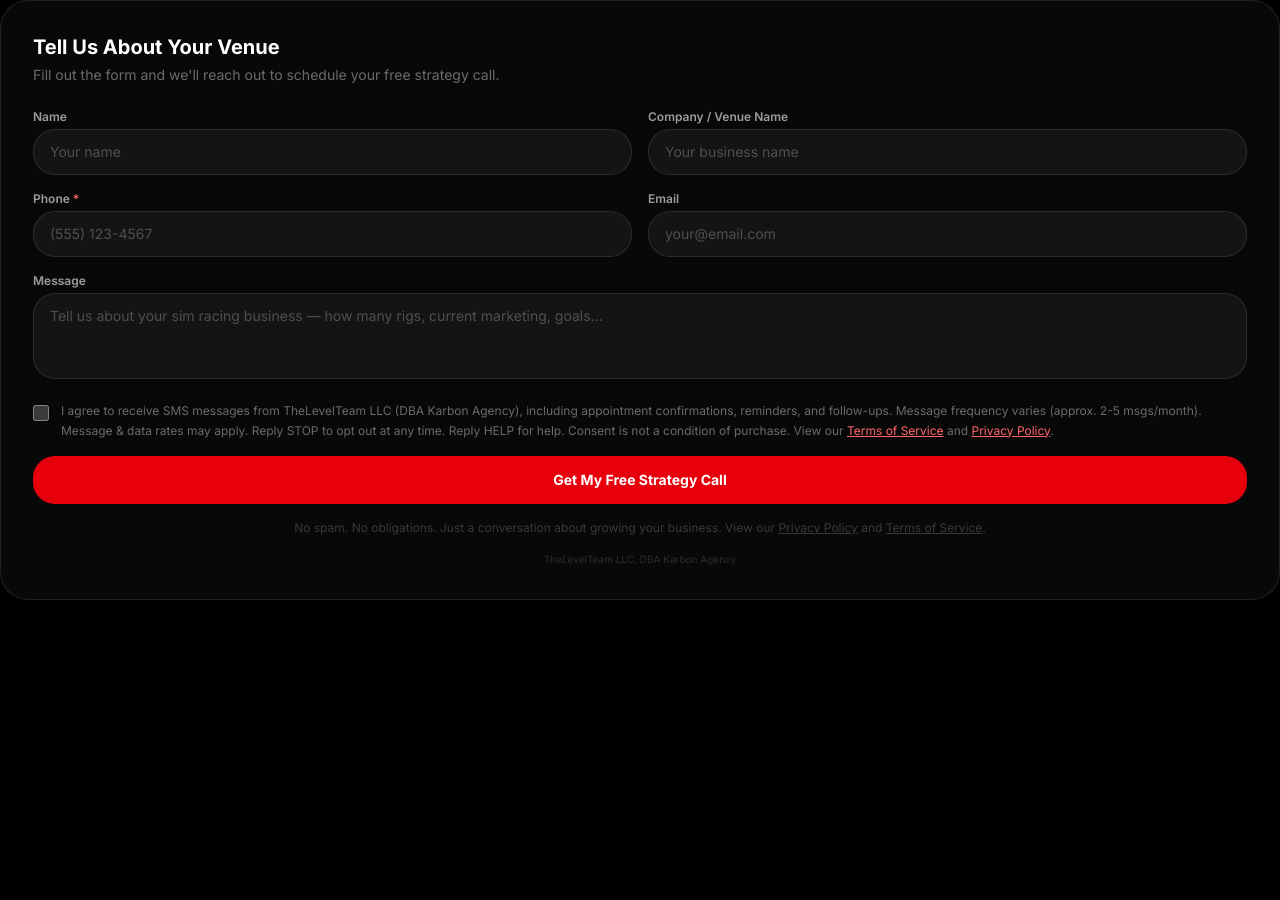
Test: ContactForm › API error › displays generic error when no message provided
Type "John" into the field with id "name" at coordinates (332, 152), box [33, 129, 632, 175]
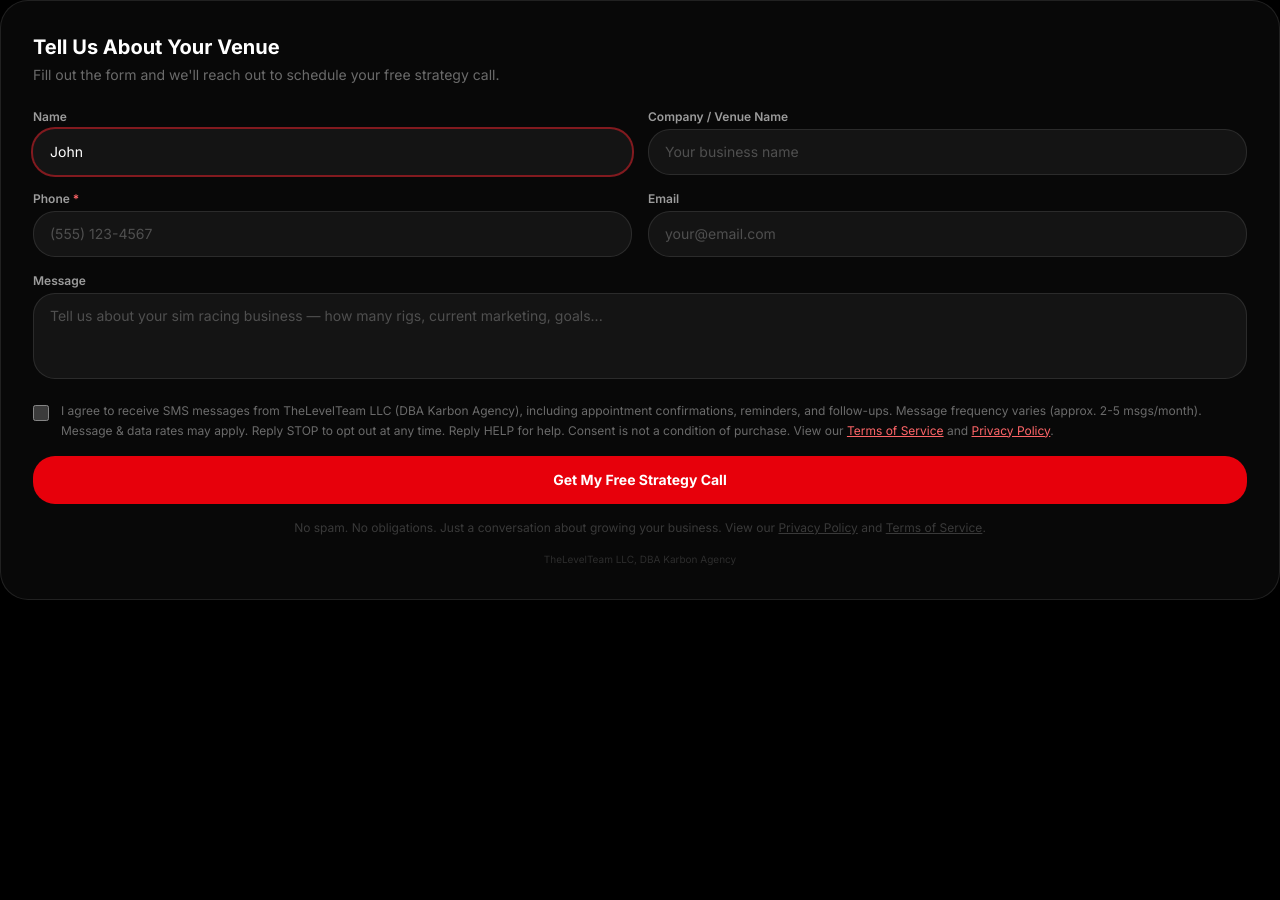
Type "123" into the field labelled "Phone *" at coordinates (332, 234), box [33, 211, 632, 257]
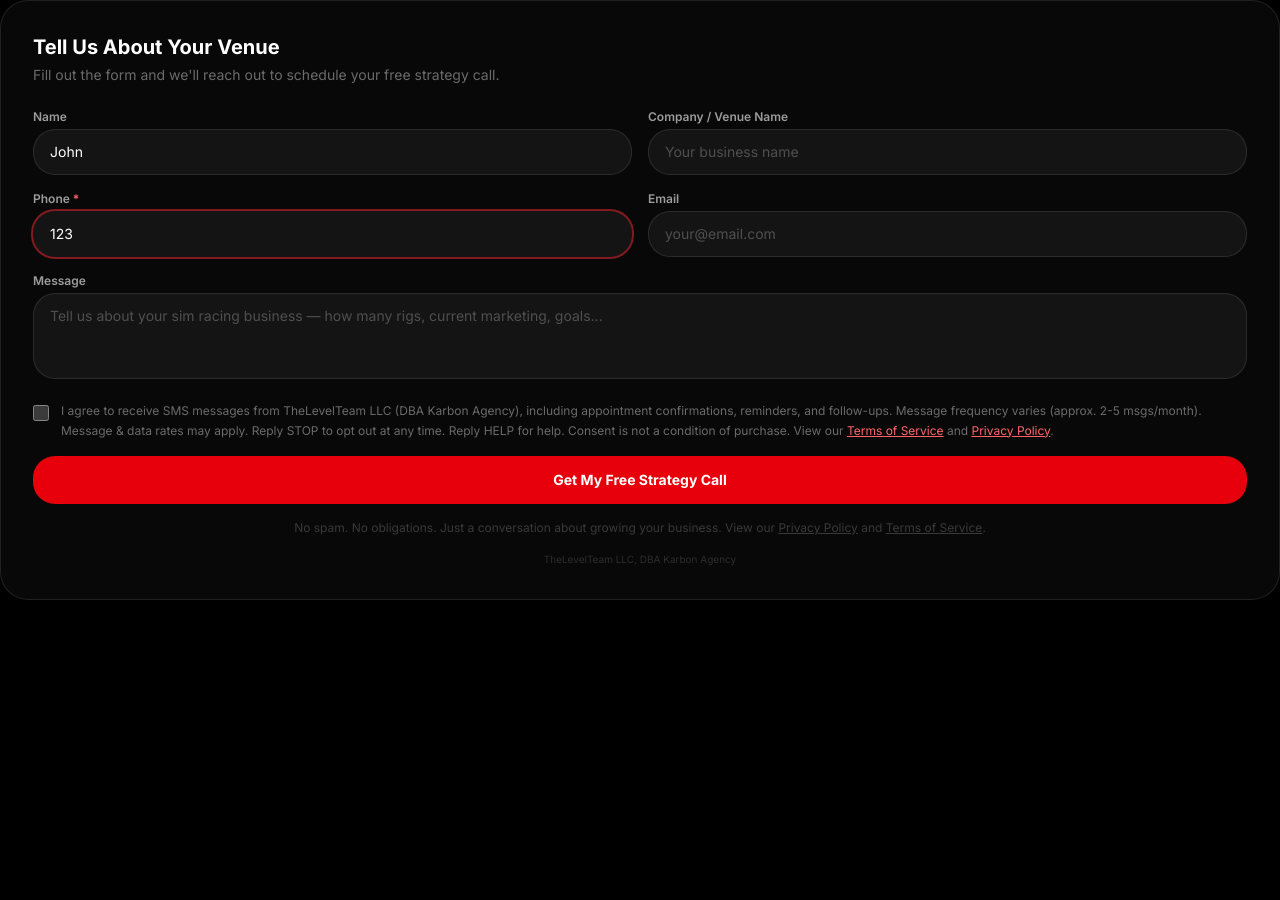
Type "j@t.com" into the field with id "email" at coordinates (948, 234), box [648, 211, 1247, 257]
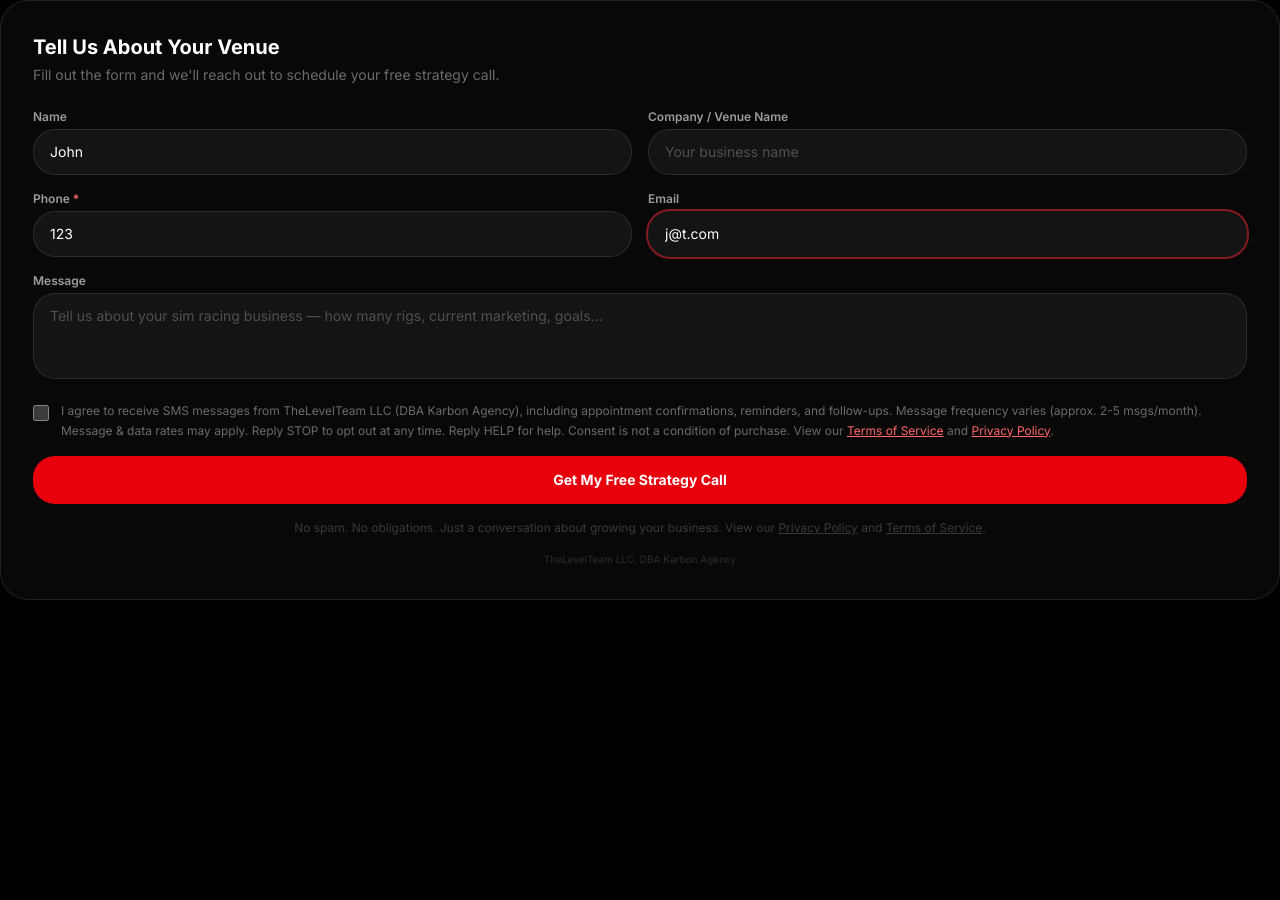
Type "Hi" into the text box with id "message" at coordinates (640, 336), box [33, 293, 1247, 379]
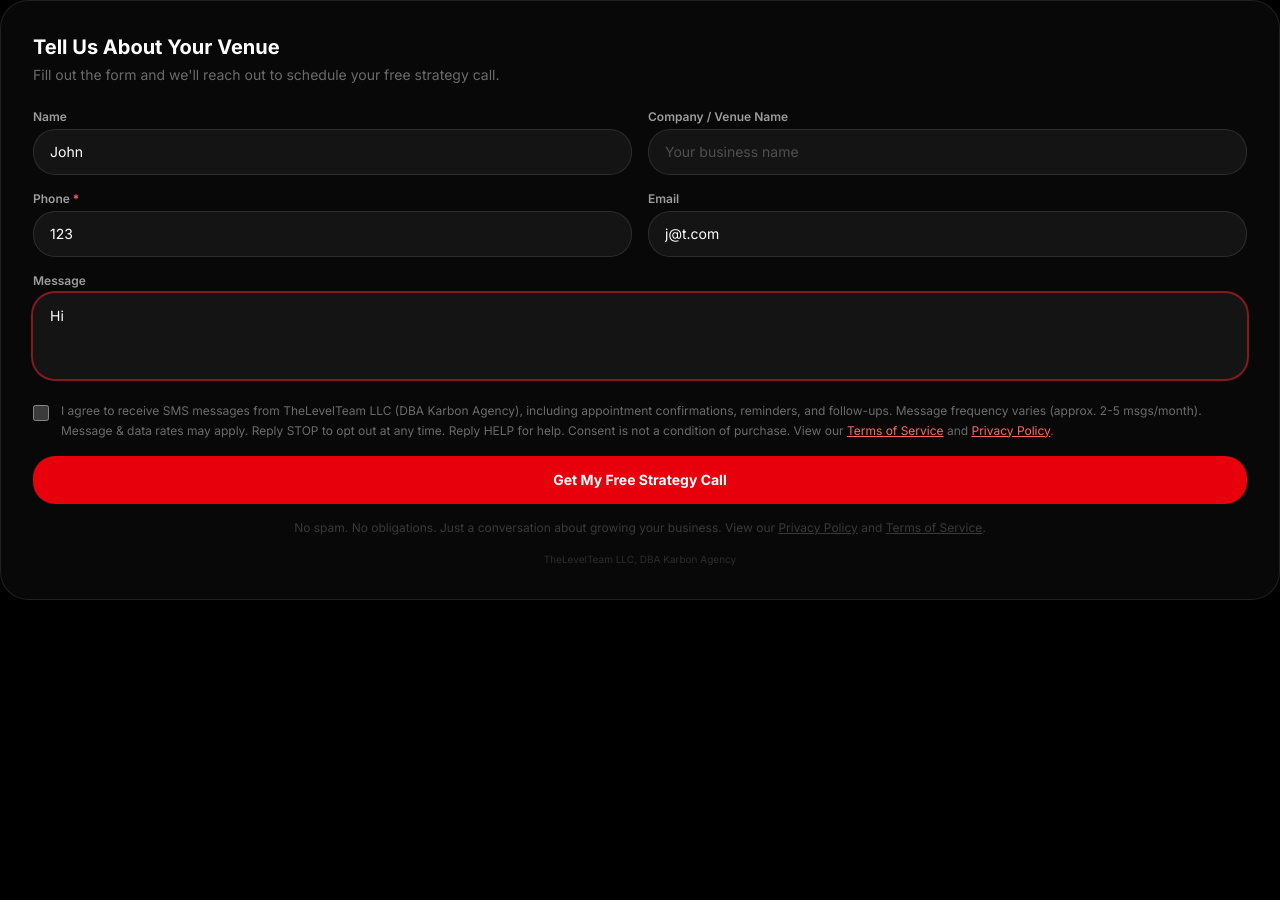
Click the button "Get My Free Strategy Call" at coordinates (640, 480), box [33, 456, 1247, 504]
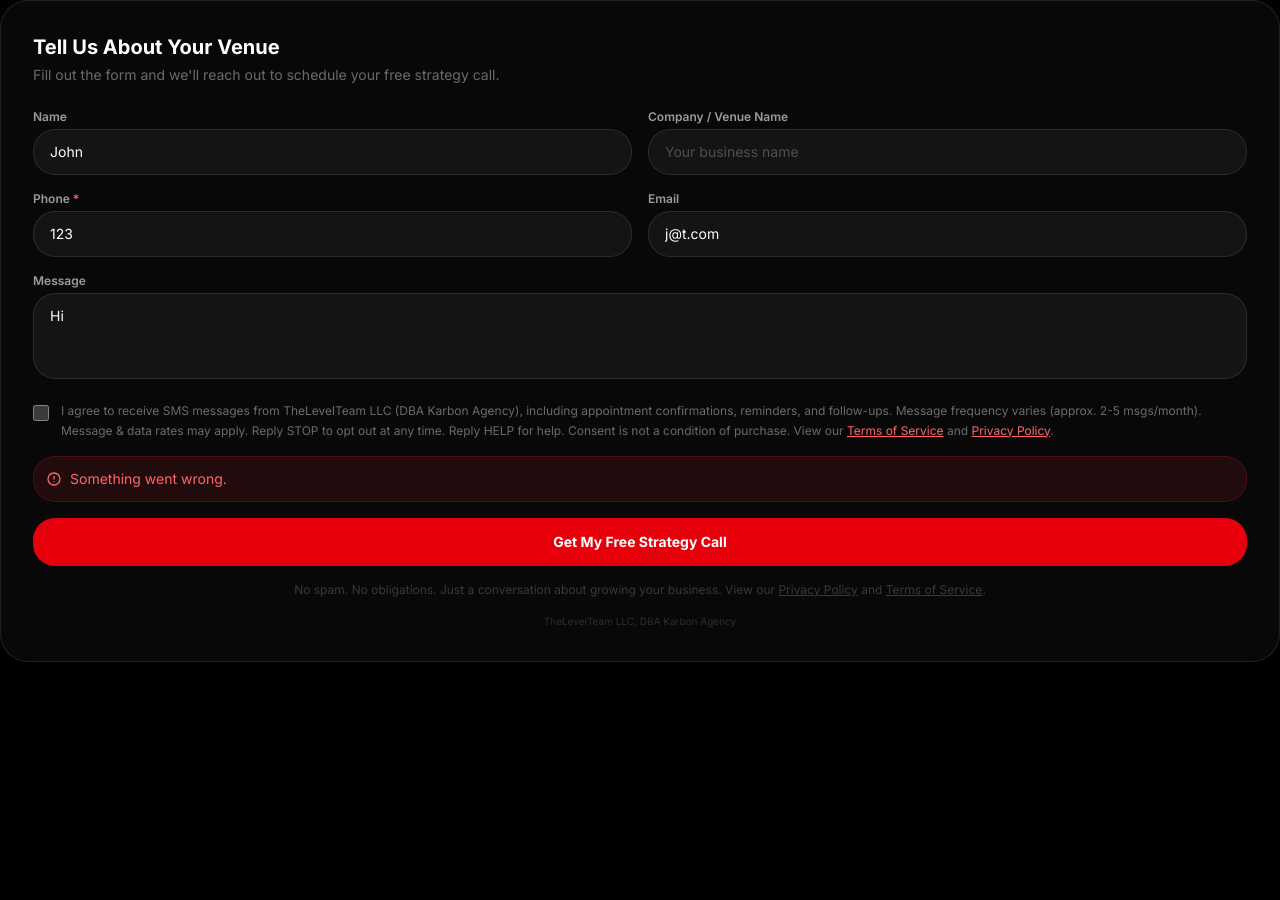
Result: the text "Something went wrong." is shown at [33, 456, 1247, 502]
